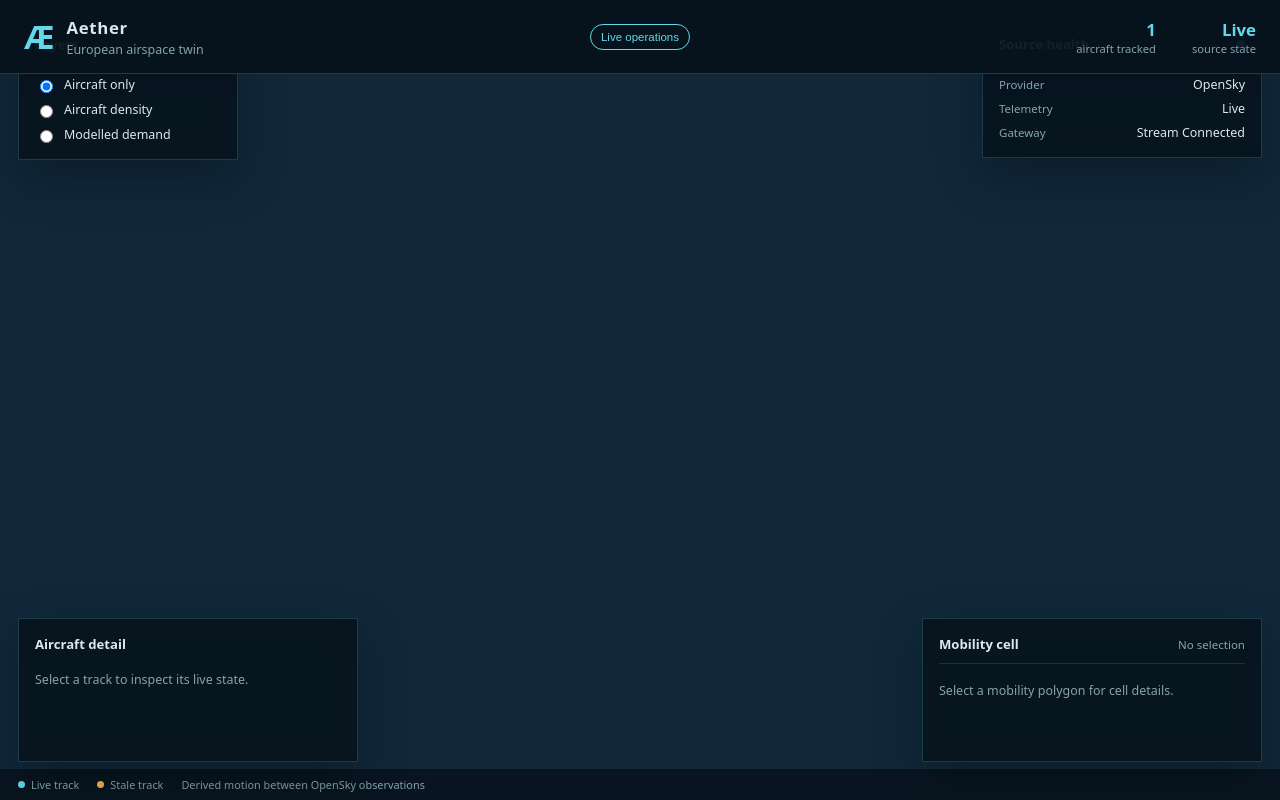
Test: shows modelled provenance when demand mode is selected
This screenshot has width=1280, height=800.
What coordinates should you click on to do the following:
click the radio button labelled "Modelled demand"
I would click on:
 (46, 136)
Its box is 40,130 -> 53,142.
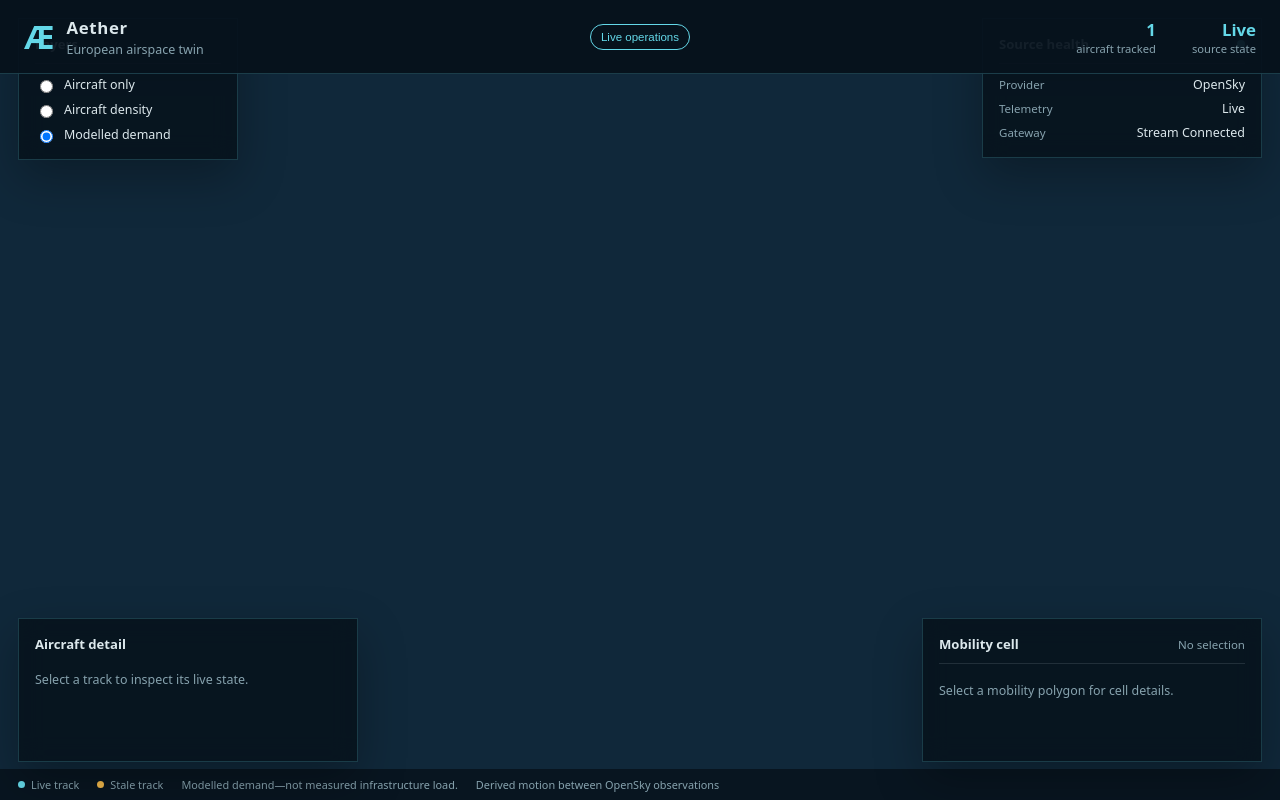
Expected: the text "Modelled demand—not measured infrastructure load." is shown, 181,777 -> 458,792
